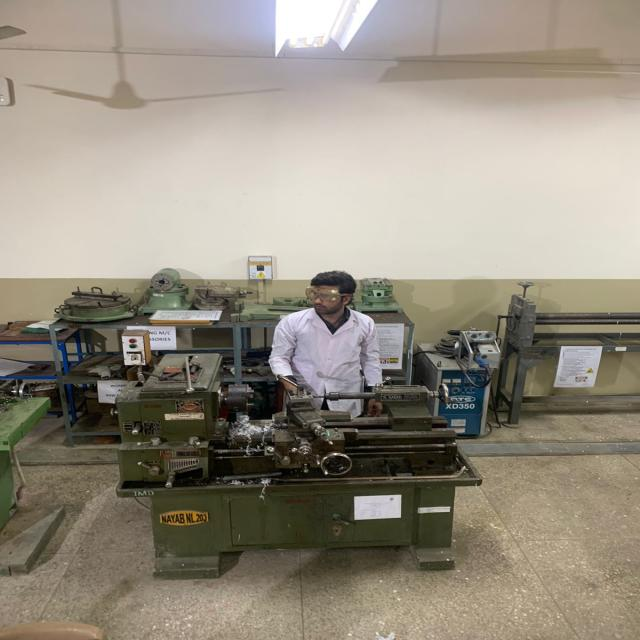googles: (305, 287, 341, 302)
labcoat: (268, 306, 384, 424)
